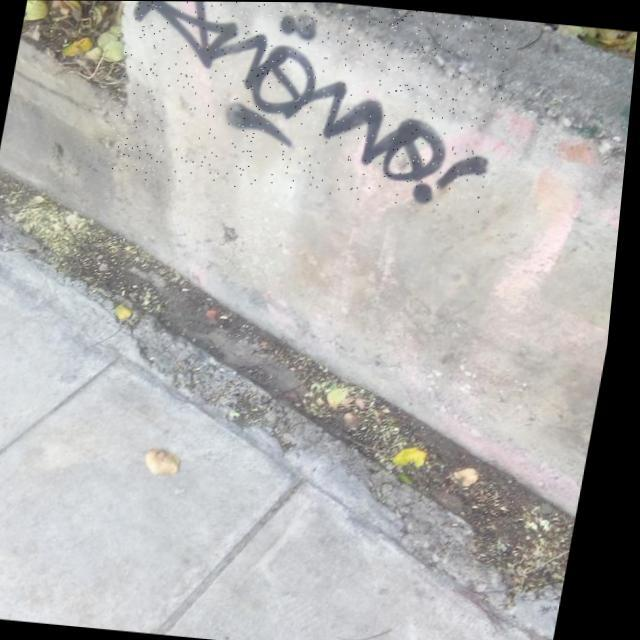-: (103, 1, 518, 211)
